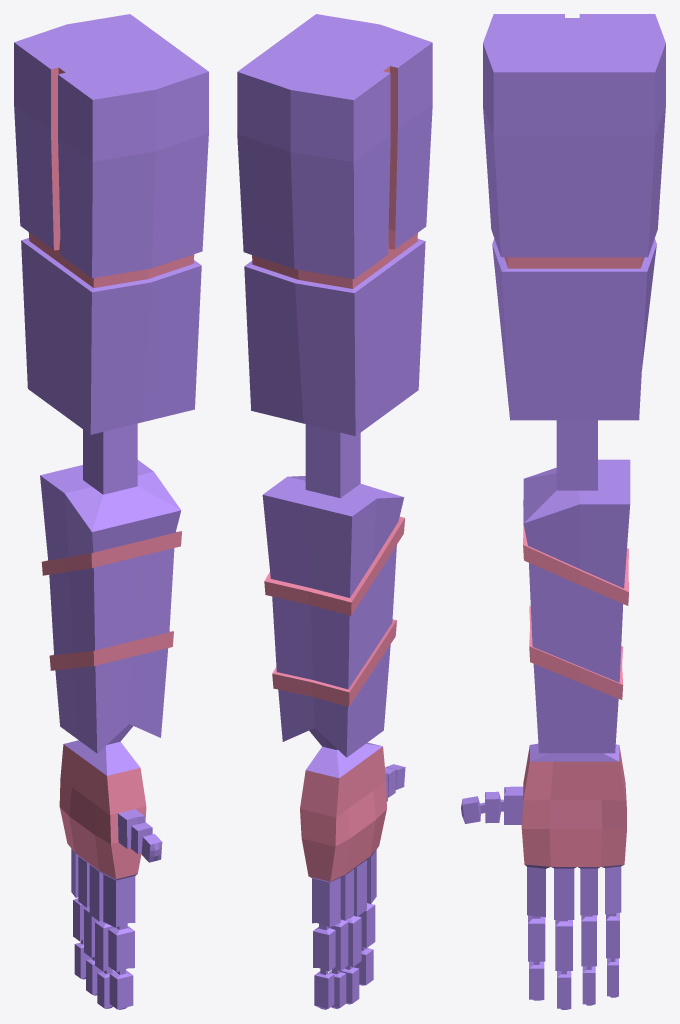
The model's file is hand2.fbx.
The picture shows the model from 3 angles, left to right: view 1: azimuth 30°, elevation 25°; view 2: azimuth 150°, elevation 25°; view 3: azimuth 270°, elevation 25°; orthographic projection. The views are drawn at different scales.
Visible parts, largest first — view 1: arm1.002; view 2: arm1.002; view 3: arm1.002.
Part boxes in pixels (left/top/right/bottom): arm1.002: left=14, top=14, right=208, bottom=1009; arm1.002: left=237, top=14, right=432, bottom=1009; arm1.002: left=461, top=14, right=665, bottom=1009.
Bounding box in the file's own units: 0.0698 × 0.5422 × 0.1038.
